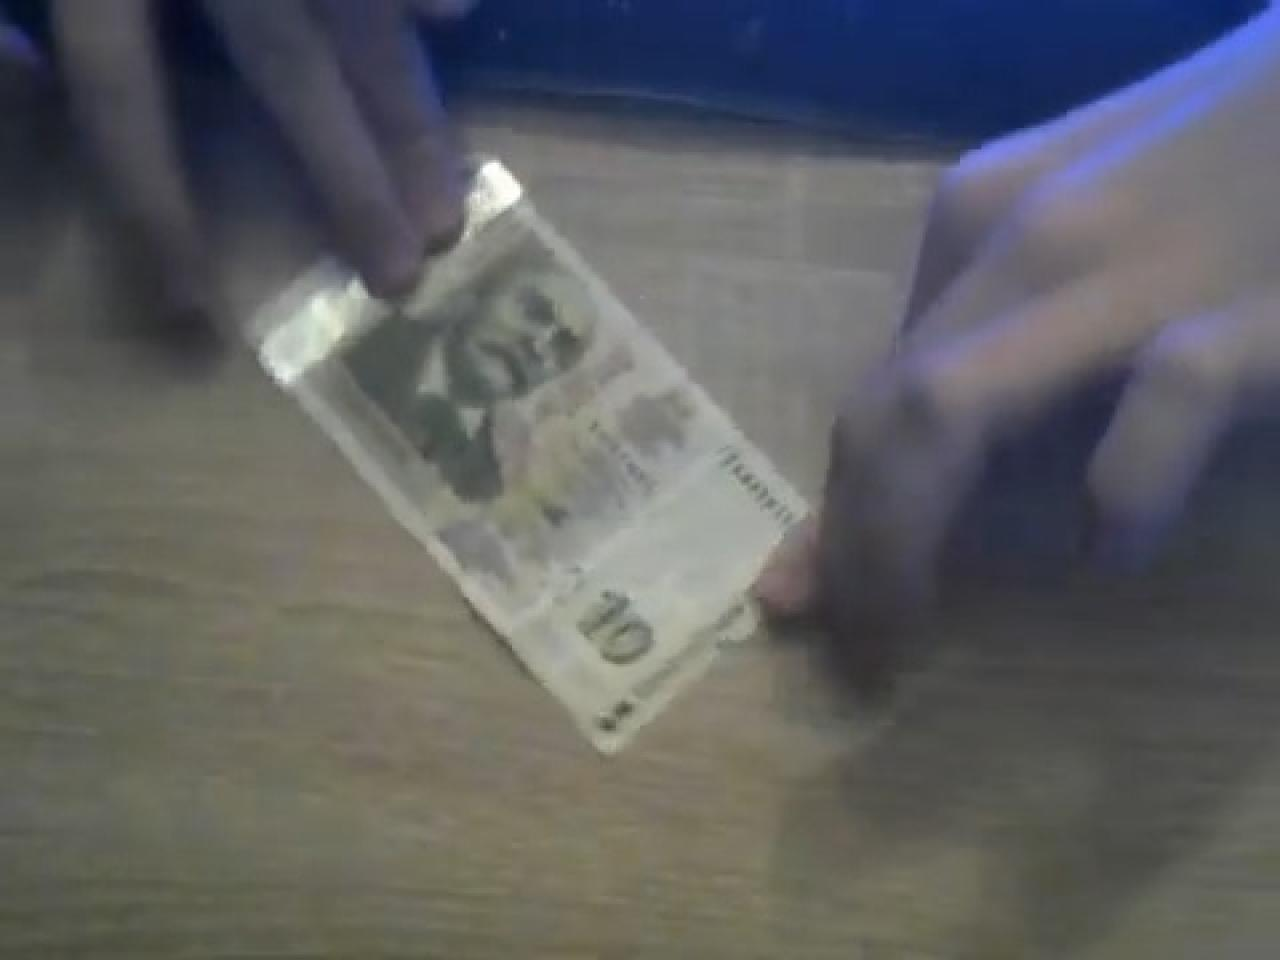10leva: (237, 160, 810, 760)
